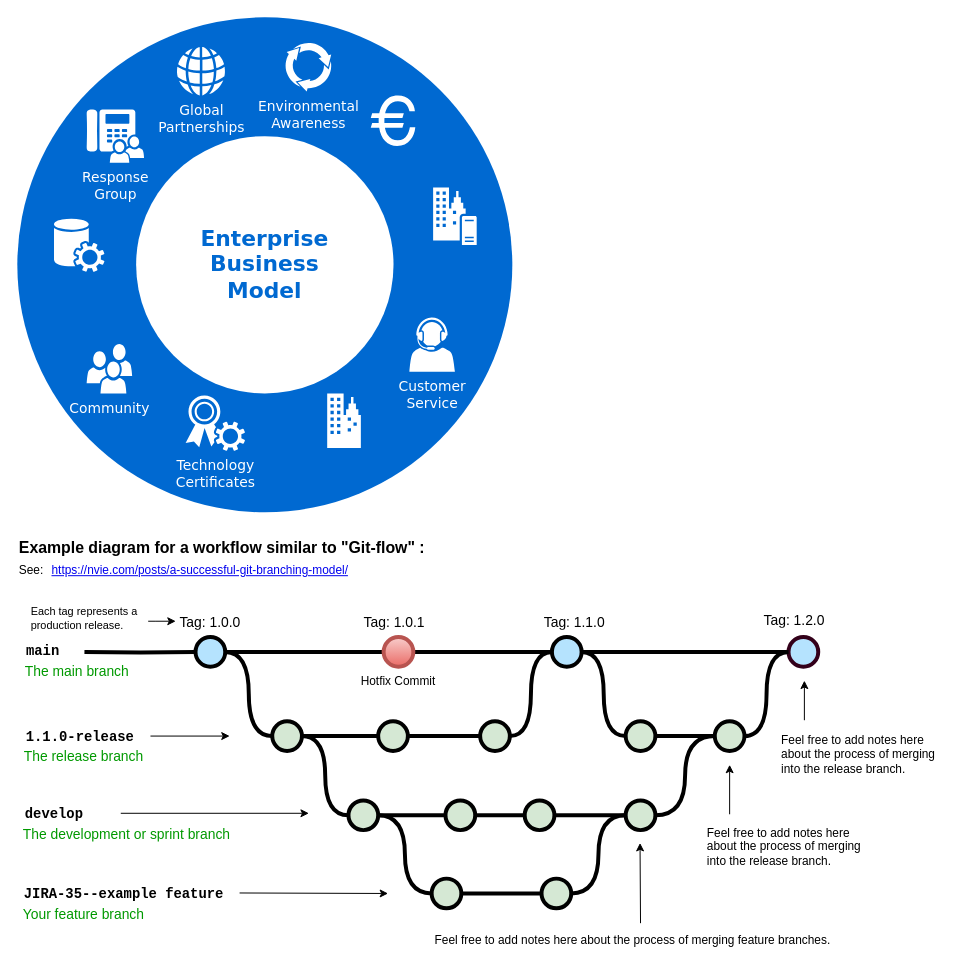
The diagram is 962 pixels wide and 975 high, and some of its shapes have lost their labels. Here are the shapes that lost their labels. From the top down, the box of each, then its label:
(370, 95, 415, 146): Finance
(433, 187, 476, 245): Digital Development
(53, 218, 104, 271): Central Management Service
(327, 393, 360, 447): Infrastructure
